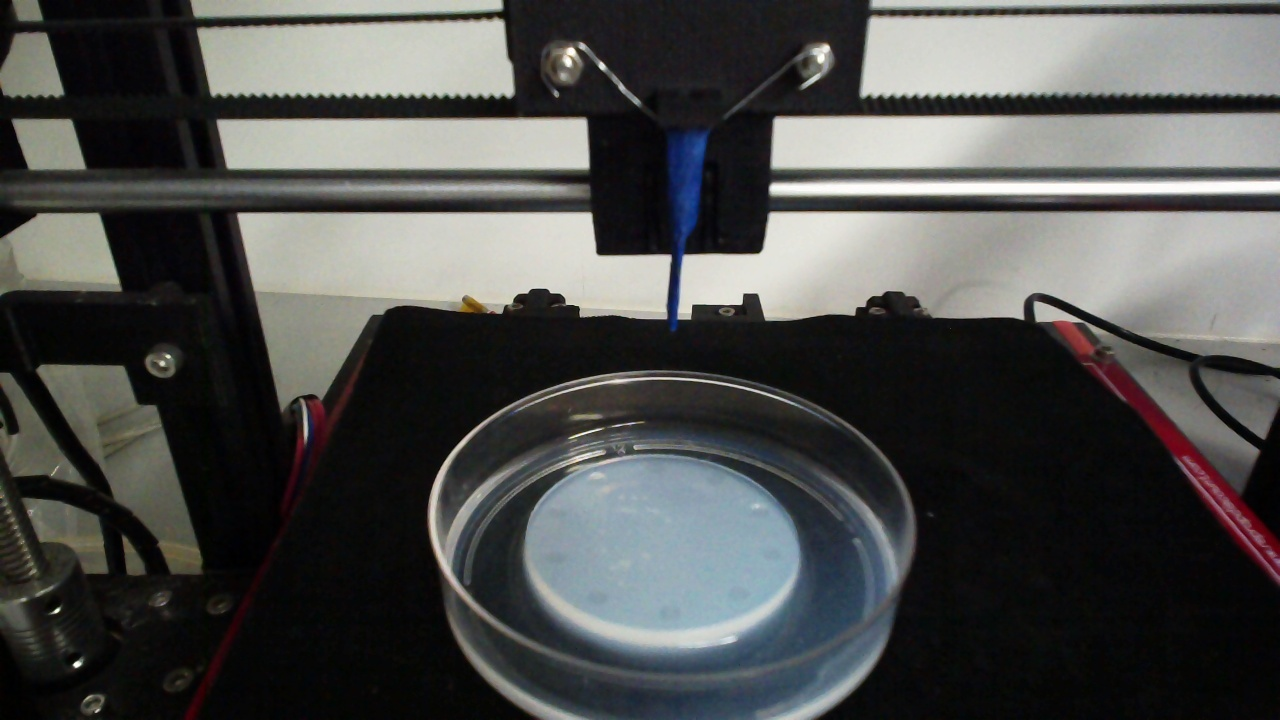groove: (726, 585, 752, 605), (543, 548, 569, 566), (760, 546, 786, 564), (657, 605, 682, 623), (704, 472, 729, 488), (585, 588, 607, 606), (749, 504, 773, 520), (644, 460, 669, 475), (545, 505, 567, 521), (586, 472, 607, 488)
needle: (667, 128, 707, 334)
